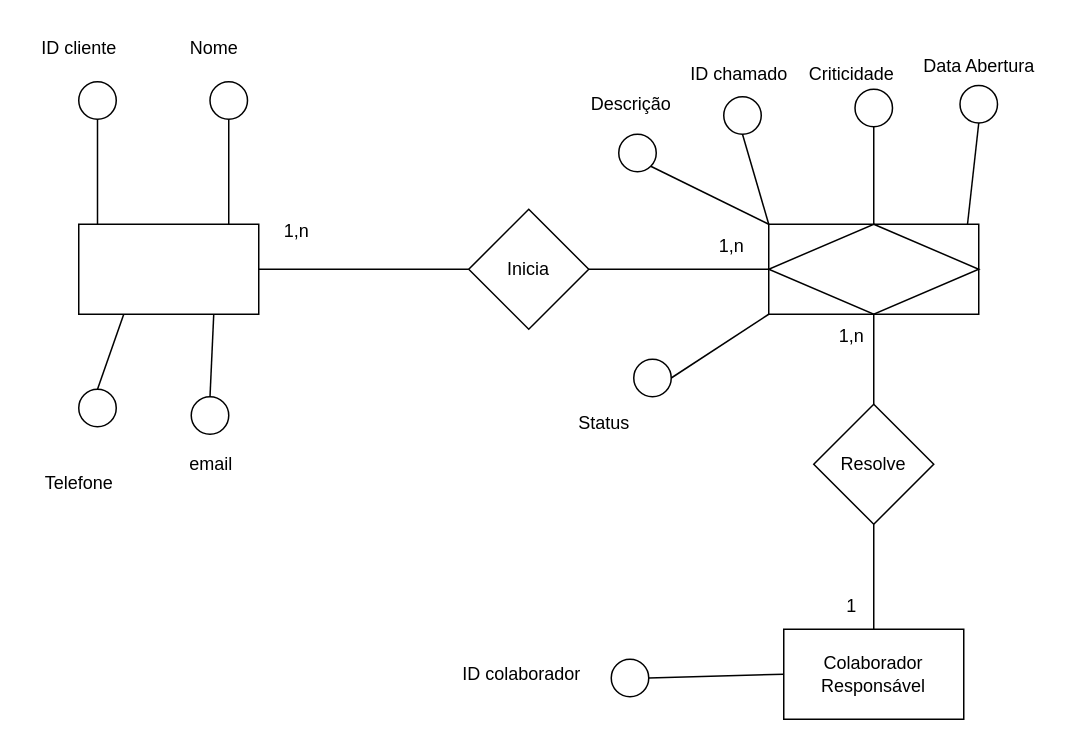
Image size: 1079x746. Some labels were removed from this diagram. The box of each missing label's shape, as (x1, y1, x2, y2) in pixels:
Chamado: (767, 223, 979, 314)
Usuário: (77, 223, 259, 314)
